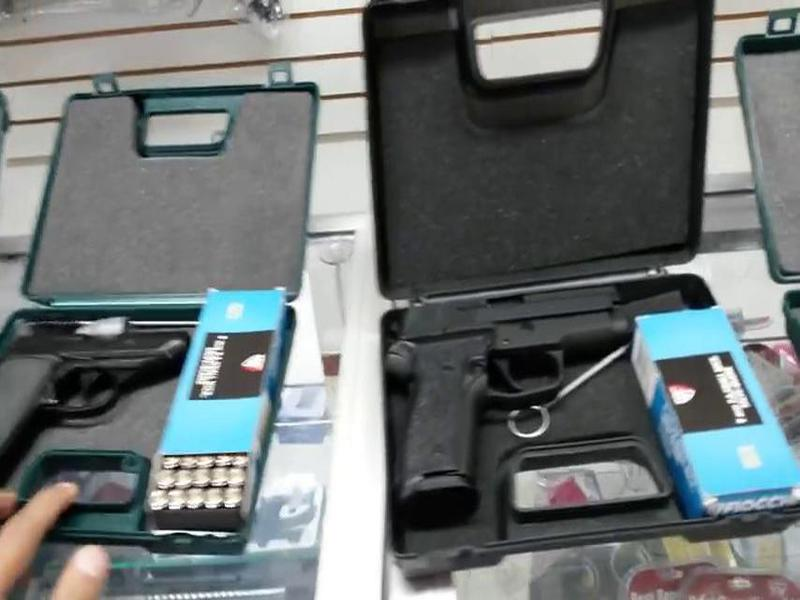Pistola: (350, 286, 673, 505)
